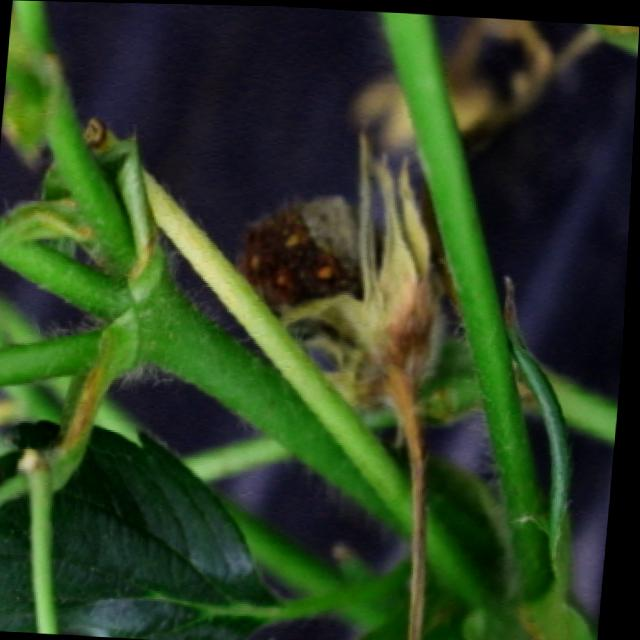Gray Mold: (241, 129, 447, 429)
